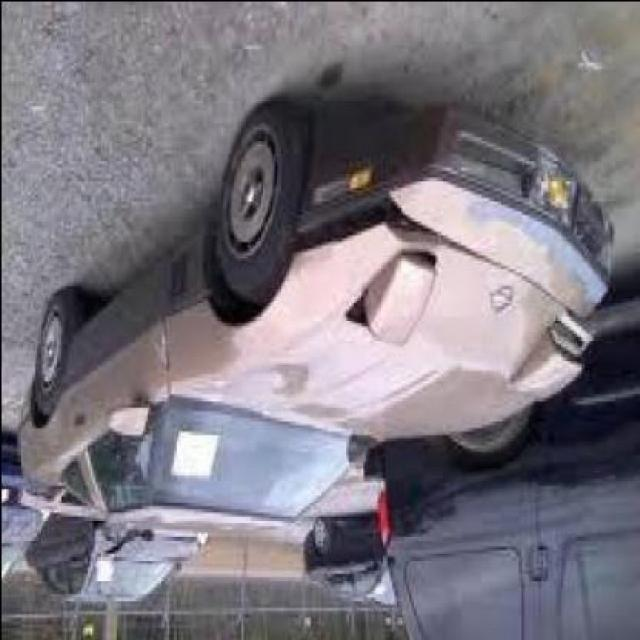damage: (470, 191, 612, 305), (300, 178, 465, 263)
